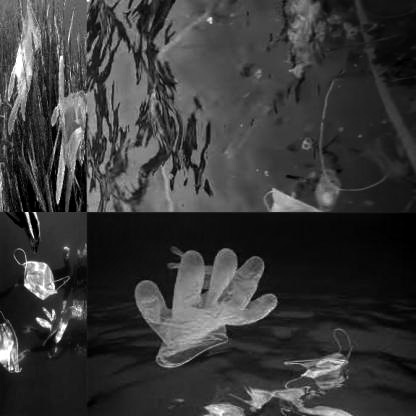Mask: (275, 321, 369, 397), (212, 174, 394, 212), (12, 247, 69, 302), (0, 309, 23, 381)
glove: (126, 237, 278, 371), (51, 54, 86, 211), (7, 3, 41, 138), (154, 243, 230, 297), (34, 306, 83, 348)
